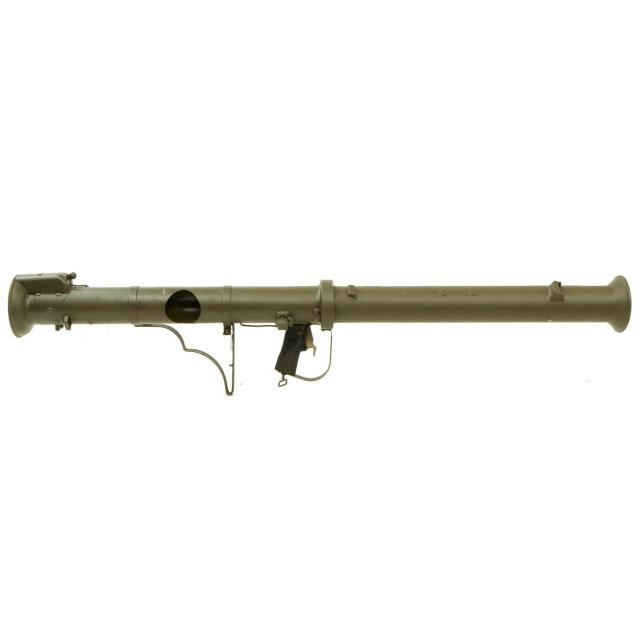bazooka: (8, 258, 636, 402)
